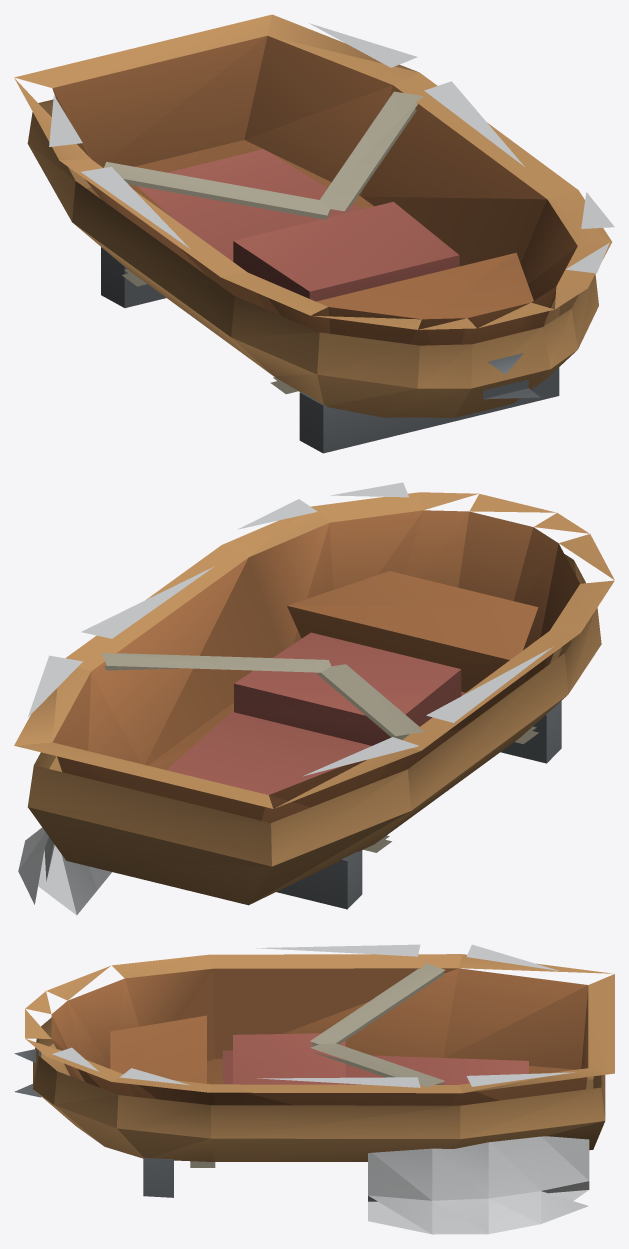
Rendered from akja.lod.glb.
The picture shows the model from 3 angles, top to bottom: view 1: azimuth 30°, elevation 25°; view 2: azimuth 150°, elevation 25°; view 3: azimuth 270°, elevation 25°; orthographic projection. The views are drawn at different scales.
Visible parts, largest first — view 1: akja; view 2: akja; view 3: akja.
Part boxes in pixels (x1,y1,x2,y2): akja: [14, 14, 614, 453]; akja: [14, 482, 614, 915]; akja: [14, 944, 614, 1234].
Bounding box in the file's own units: 0.8717 × 0.3899 × 1.49.
